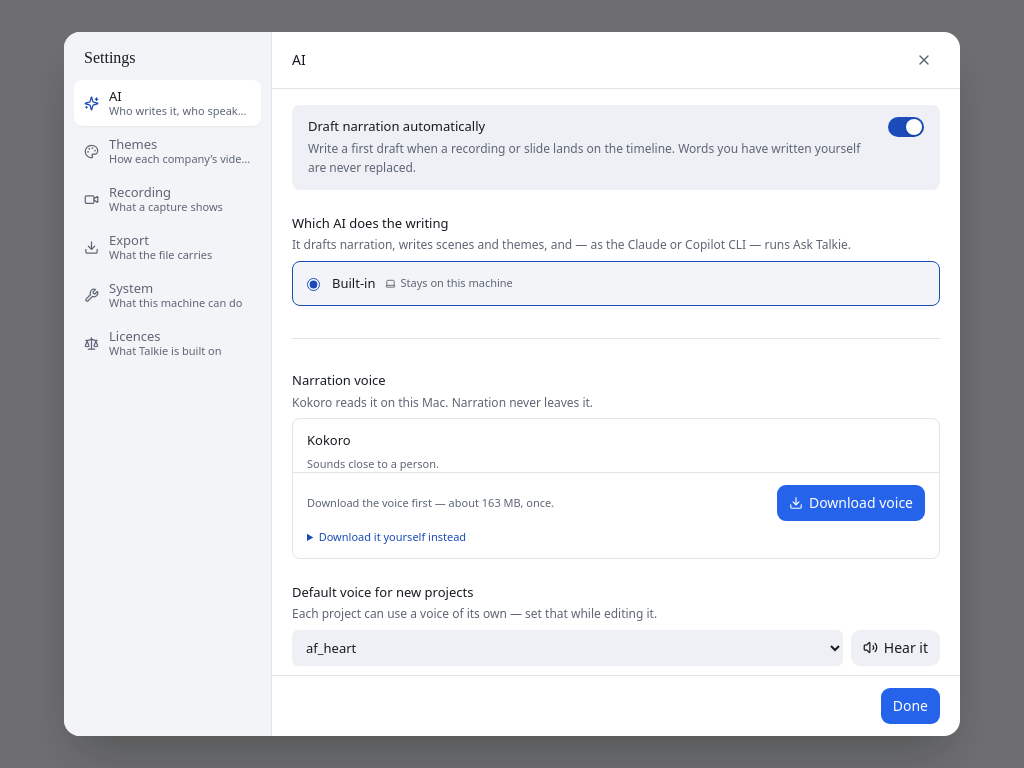
SettingsDialog › starts the download when asked, and shows how far it has got
Click the button "Download voice": [851, 503] box [777, 485, 925, 521]
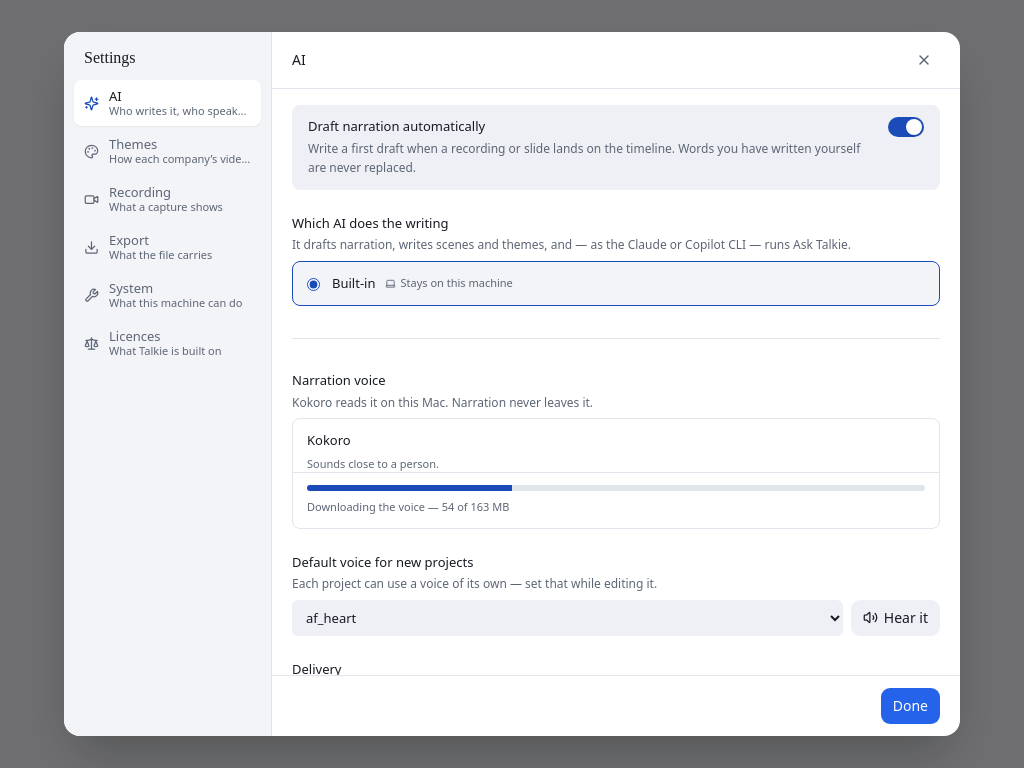
Expected: the progress indicator named "Downloading the Kokoro voice" is shown, [307, 485, 925, 491]
Expected: the text "Downloading the voice — 54 of 163 MB" is shown, [307, 499, 509, 514]
